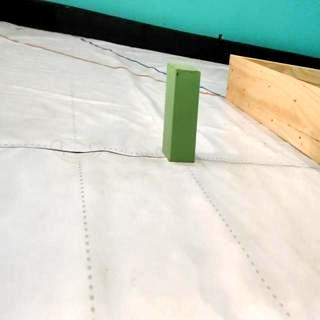greenbox: (162, 66, 200, 166)
